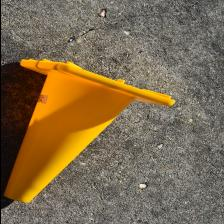cone: (1, 58, 176, 203)
